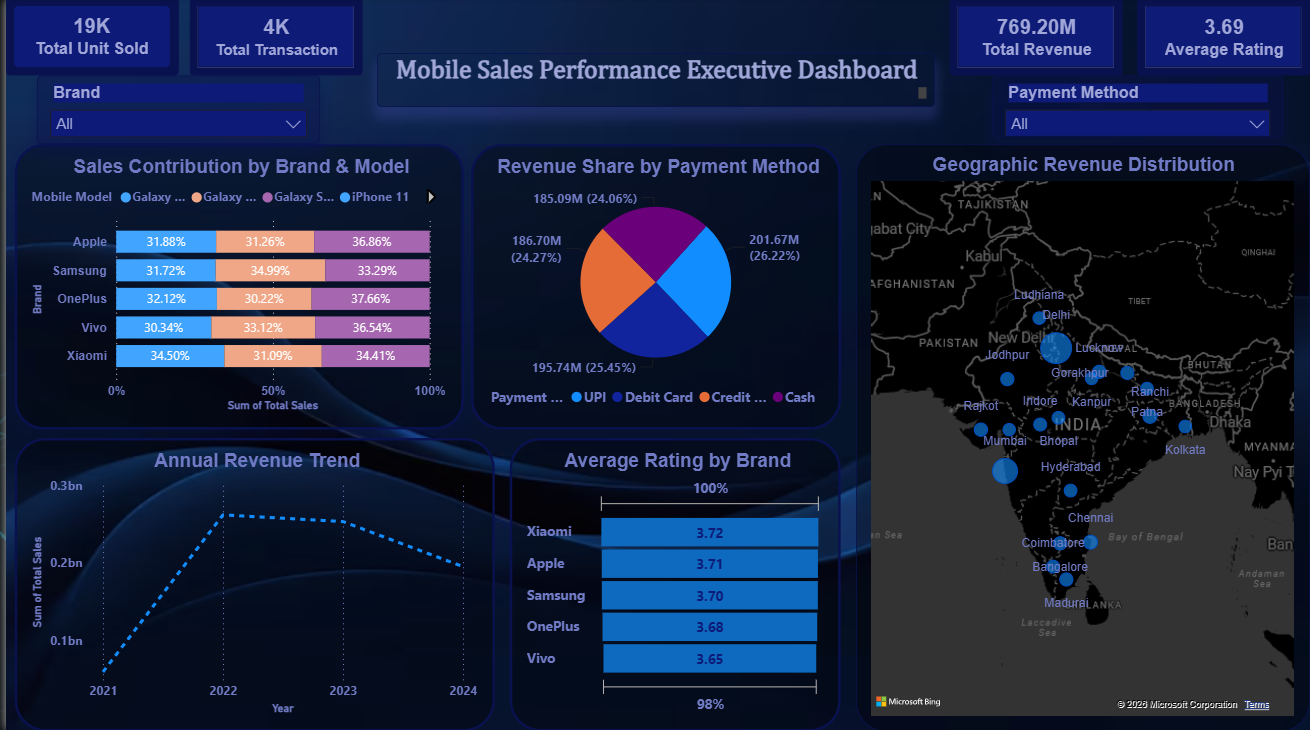

This screenshot's page, from the dashboard's own definition file:
{"tool":"powerbi","page":{"name":"Page 1","canvas":[1280,720],"ordinal":0},"visuals":[{"type":"hundredPercentStackedBarChart","title":"Sales Contribution by Brand & Model","fields":{"Category":["Sheet1.Brand"],"Series":["Sheet1.Mobile Model"],"Y":["Sum(Sheet1.Total Sales)"]},"box":[8.6,143.6,440.5,279.8],"z":0},{"type":"pieChart","title":"Revenue Share by Payment Method","fields":{"Category":["Sheet1.Payment Method"],"Y":["Sum(Sheet1.Total Sales)"]},"box":[456.4,143.6,363.2,279.8],"z":1000},{"type":"lineChart","title":"Annual Revenue Trend","fields":{"Y":["Sum(Sheet1.Total Sales)"],"Category":["Sheet1.Date.Variation.Date Hierarchy.Year","Sheet1.Date.Variation.Date Hierarchy.Quarter","Sheet1.Date.Variation.Date Hierarchy.Month","Sheet1.Date.Variation.Date Hierarchy.Day"]},"box":[8.6,431.9,471.2,288.3],"z":2000},{"type":"funnel","title":"Average Rating by Brand","fields":{"Y":["Sum(Sheet1.Customer Ratings)"],"Category":["Sheet1.Brand"]},"box":[494.5,431.9,325.2,288.3],"z":3000},{"type":"cardVisual","fields":{"Data":["Sheet1.Total Unit Sold"]},"box":[0,0,169.3,76.1],"z":4000},{"type":"cardVisual","fields":{"Data":["Sheet1.Total Transaction"]},"box":[180.4,0,169.3,76.1],"z":5000},{"type":"cardVisual","fields":{"Data":["Sheet1.Average Rating"]},"box":[926.4,0,169.3,76.1],"z":6000},{"type":"cardVisual","fields":{"Data":["Sheet1.Average Rating"]},"box":[1110.4,0,169.3,76.1],"z":7000},{"type":"textbox","title":"Mobile Sales Performance Executive Dashboard","box":[364.4,54.4,546.7,52.2],"z":8000},{"type":"slicer","fields":{"Values":["Sheet1.Brand"]},"box":[30.7,76.1,277.3,67.5],"z":9000},{"type":"slicer","fields":{"Values":["Sheet1.Payment Method"]},"box":[968.1,76.1,285.9,60.1],"z":10000},{"type":"map","title":"Geographic Revenue Distribution","fields":{"Category":["Sheet1.City"],"Size":["Sum(Sheet1.Total Sales)"]},"box":[834.4,143.6,445.4,576.7],"z":11000}]}

Visuals, with their boxes in screenshot pixels (x1, y1, x2, y2), scaled from the page's 1280x720 canvas onto the 1310x730 screenshot:
"Sales Contribution by Brand & Model" hundredPercentStackedBarChart: select_region(9, 146, 460, 429)
"Revenue Share by Payment Method" pieChart: select_region(467, 146, 839, 429)
"Annual Revenue Trend" lineChart: select_region(9, 438, 491, 729)
"Average Rating by Brand" funnel: select_region(506, 438, 839, 729)
cardVisual - Sheet1.Total Unit Sold: select_region(0, 0, 173, 77)
cardVisual - Sheet1.Total Transaction: select_region(185, 0, 358, 77)
cardVisual - Sheet1.Average Rating: select_region(948, 0, 1121, 77)
cardVisual - Sheet1.Average Rating: select_region(1136, 0, 1309, 77)
"Mobile Sales Performance Executive Dashboard" textbox: select_region(373, 55, 932, 108)
slicer - Sheet1.Brand: select_region(31, 77, 315, 146)
slicer - Sheet1.Payment Method: select_region(991, 77, 1283, 138)
"Geographic Revenue Distribution" map: select_region(854, 146, 1309, 729)
